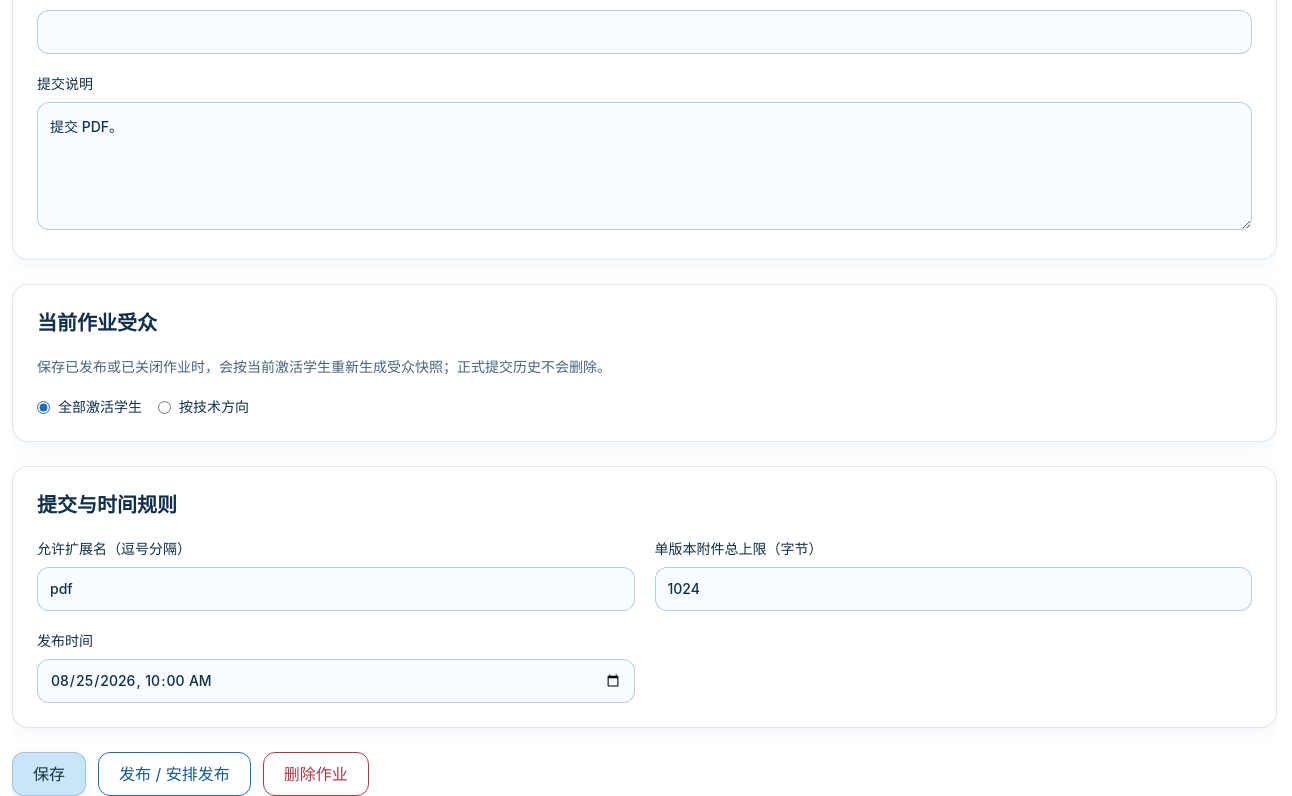
Test: admin permissions UI › publishes an assignment over HTTP when randomUUID is unavailable
This screenshot has width=1292, height=796.
(page scrolled)
Click the button "发布 / 安排发布": (174, 774) [98,752,251,795]
(page scrolled)
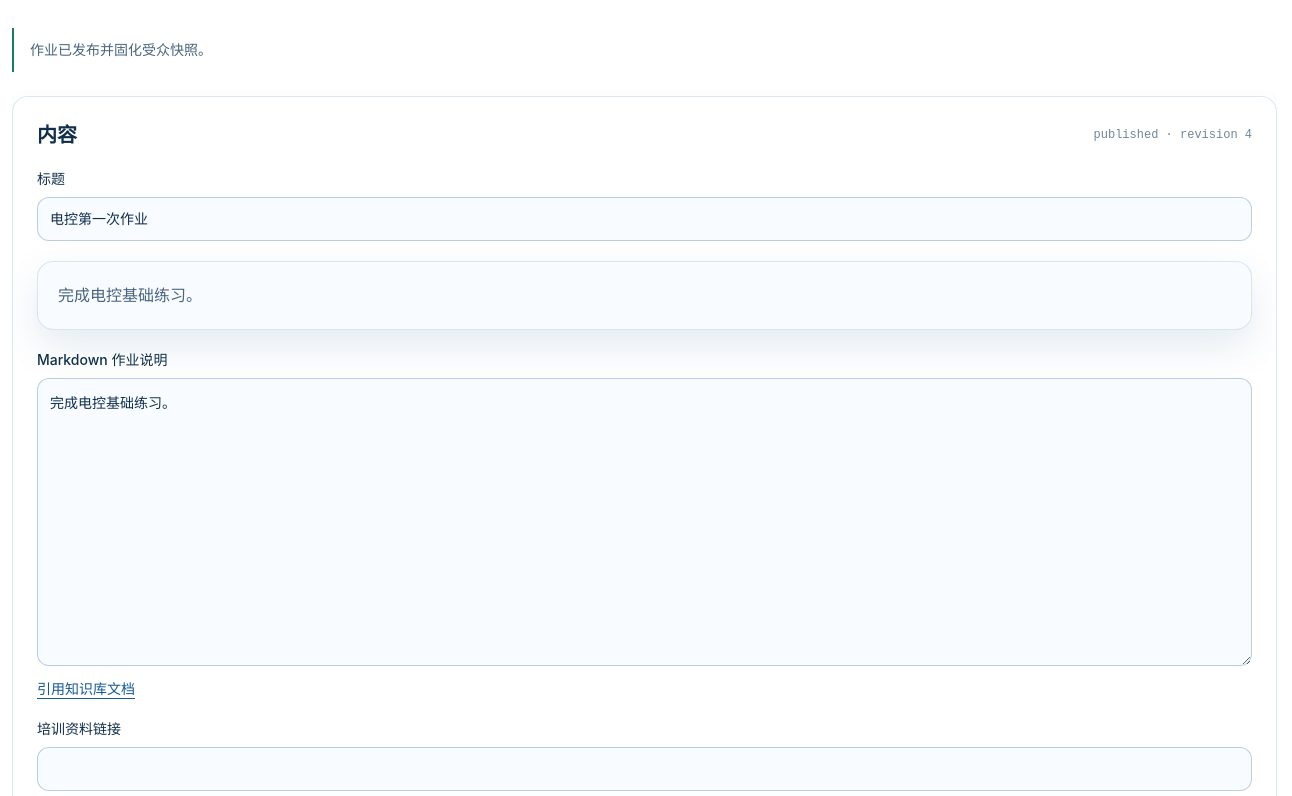
Check: the text "作业已发布并固化受众快照。" is shown, box [12,28,1277,72]
